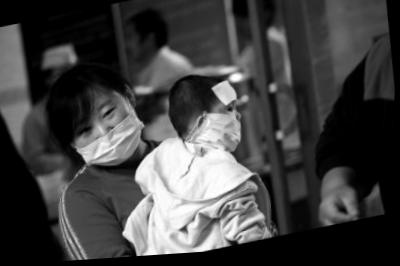NONE: (123, 27, 156, 66)
WRONG: (62, 92, 144, 175), (186, 96, 251, 163)
